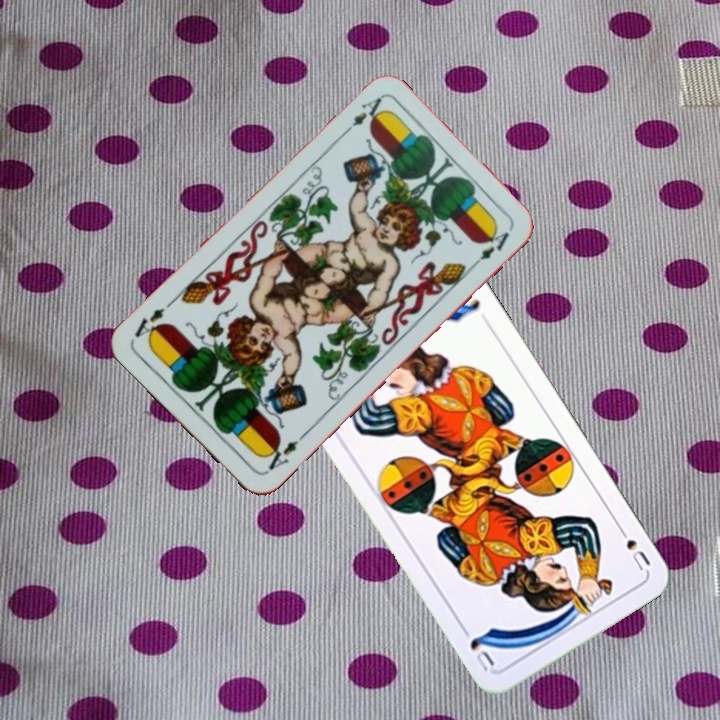EA: (259, 429, 308, 476), (338, 92, 385, 139)
SU: (613, 521, 653, 574)
